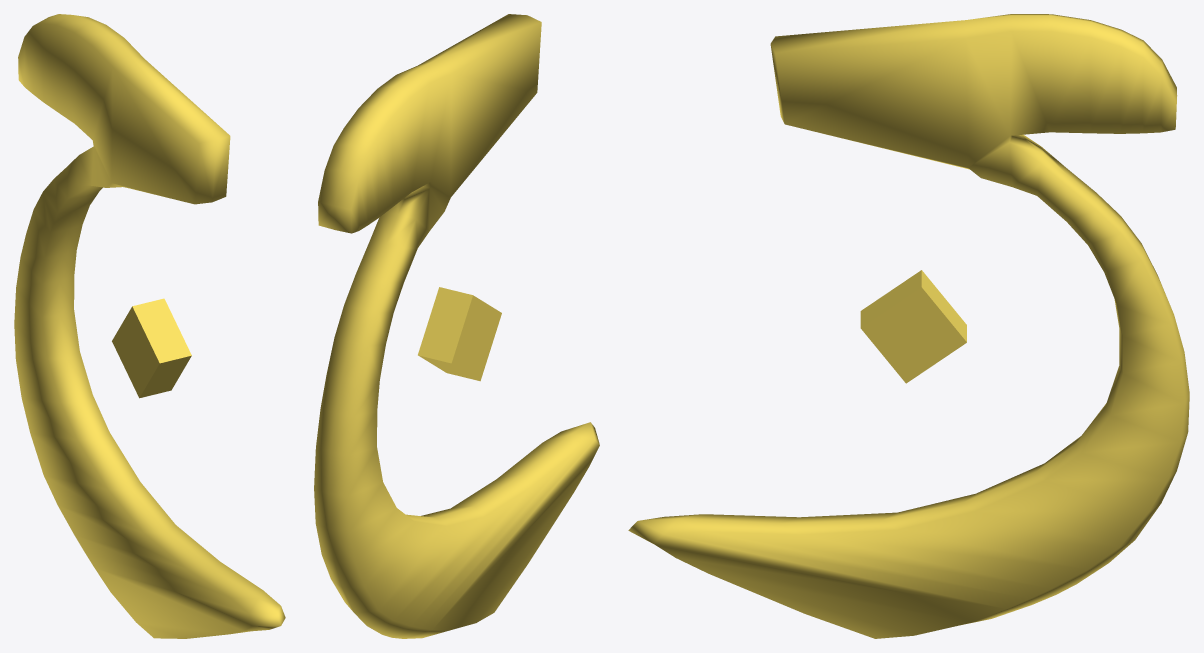
Rendered from cim.FBX.
The picture shows the model from 3 angles, left to right: view 1: azimuth 30°, elevation 25°; view 2: azimuth 150°, elevation 25°; view 3: azimuth 270°, elevation 25°; orthographic projection. The views are drawn at different scales.
Parts seen in each view (by area): view 1: cim; view 2: cim; view 3: cim.
Boxes of the visible parts, x1,y1,x2,y2 form: cim: (14,14,285,638); cim: (314,14,599,638); cim: (628,14,1189,638).
Bounding box in the file's own units: 12.96 × 173 × 209.
Materials: 1 (1 with a texture image).
